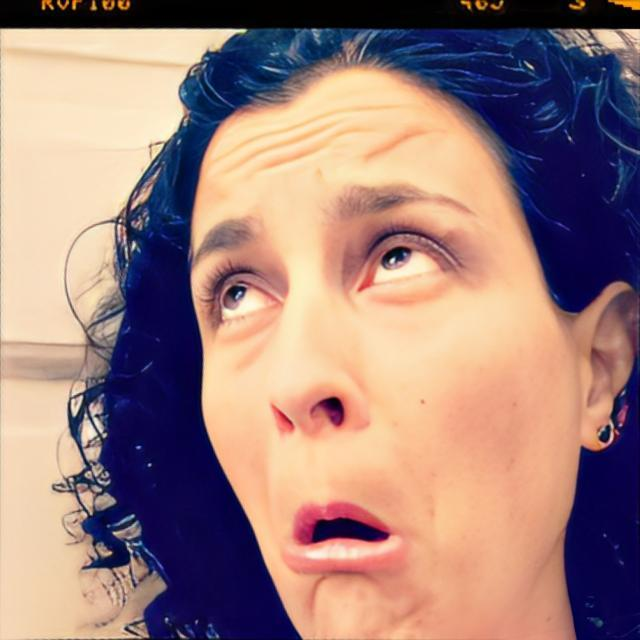surprise: (190, 57, 578, 640)
